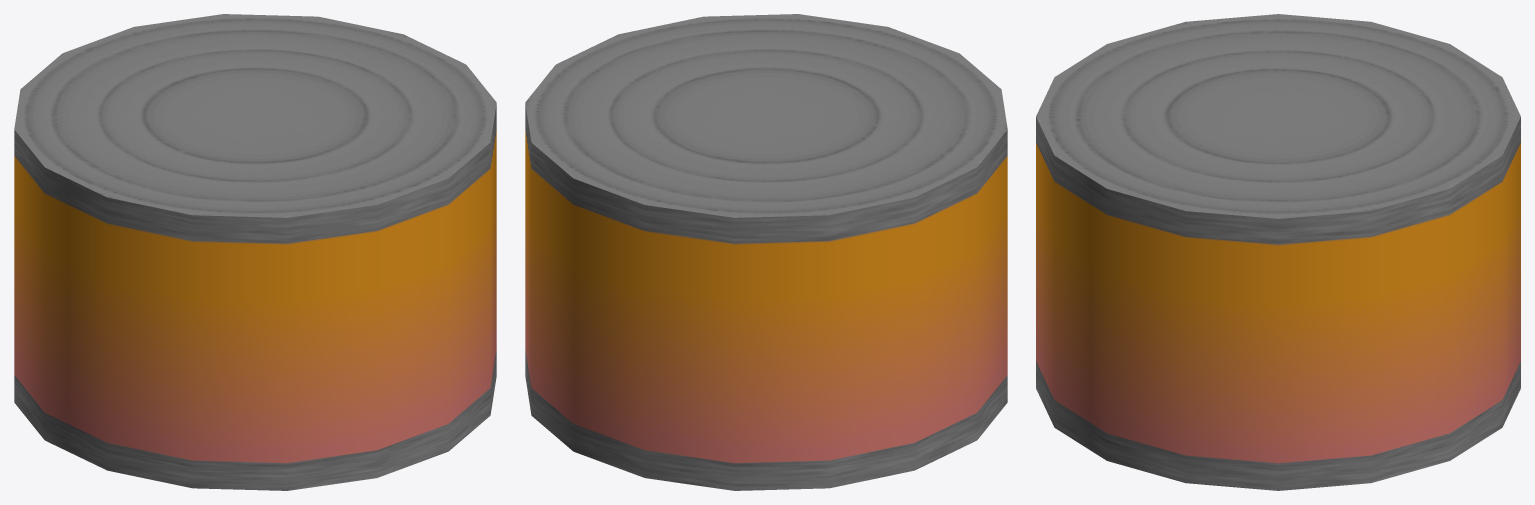
File: tincangradient_001.glb
3 views of the same model, side by side, from view 1: azimuth 30°, elevation 25°; view 2: azimuth 150°, elevation 25°; view 3: azimuth 270°, elevation 25° (orthographic).
Parts seen in each view (by area): view 1: tincangradient.001; view 2: tincangradient.001; view 3: tincangradient.001.
Boxes of the visible parts, left/top/right/bottom form: tincangradient.001: left=14, top=14, right=496, bottom=490; tincangradient.001: left=525, top=14, right=1007, bottom=490; tincangradient.001: left=1036, top=14, right=1520, bottom=490.
Size of the model in its own units: 0.3916 by 0.2424 by 0.3916.
1 material, 1 textured.
